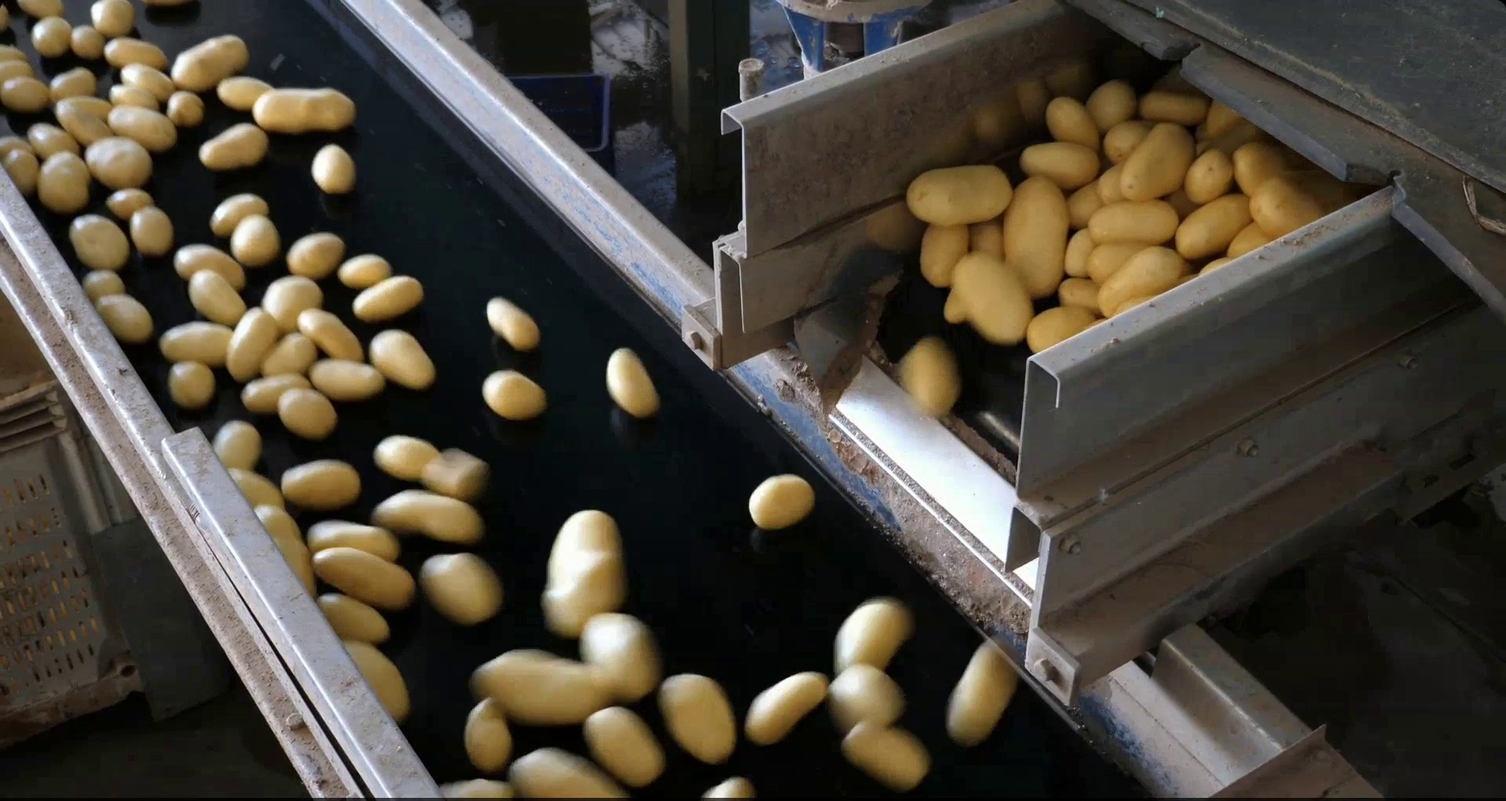potato: (537, 502, 630, 643), (463, 644, 615, 730), (940, 245, 1038, 349), (999, 171, 1073, 304), (940, 633, 1020, 752), (573, 607, 668, 706), (655, 667, 740, 769), (1090, 241, 1196, 321), (899, 159, 1017, 230), (504, 741, 640, 801), (579, 701, 669, 790), (739, 666, 834, 750), (828, 591, 919, 678), (413, 547, 509, 629), (836, 717, 937, 793), (306, 542, 418, 610), (366, 485, 489, 545), (337, 635, 414, 729), (1115, 118, 1199, 202), (893, 330, 966, 424), (824, 658, 908, 736), (253, 502, 318, 599), (1170, 188, 1253, 262), (1244, 172, 1330, 241), (251, 83, 362, 136), (167, 31, 255, 97), (1081, 194, 1183, 248), (364, 324, 441, 393), (275, 455, 366, 513), (311, 587, 395, 647), (602, 341, 664, 422), (744, 469, 820, 533), (223, 303, 280, 384), (461, 696, 517, 777), (348, 270, 428, 326), (296, 305, 369, 366), (81, 132, 156, 191), (417, 444, 493, 502), (304, 517, 404, 561), (100, 100, 180, 154), (153, 317, 238, 367), (1017, 137, 1102, 187), (194, 120, 274, 172), (65, 211, 132, 273), (917, 218, 973, 292), (1023, 303, 1101, 356), (306, 355, 390, 404), (256, 272, 328, 329), (478, 366, 551, 422), (370, 431, 446, 484), (35, 148, 94, 215), (186, 265, 249, 327), (482, 292, 544, 354), (275, 383, 341, 441), (1231, 137, 1293, 198), (92, 289, 157, 346), (169, 240, 250, 285), (282, 228, 349, 281), (53, 94, 115, 150), (1042, 92, 1102, 149), (1182, 146, 1237, 207), (207, 189, 273, 239), (208, 417, 265, 474), (258, 328, 321, 379), (1135, 85, 1213, 126), (224, 464, 288, 513), (227, 212, 281, 269), (1082, 75, 1140, 128), (238, 372, 307, 416), (213, 71, 279, 116), (126, 202, 178, 259), (117, 57, 177, 105), (164, 357, 218, 410), (308, 141, 358, 197), (1098, 116, 1153, 165), (333, 250, 395, 292), (100, 32, 170, 69), (22, 118, 81, 161), (1199, 96, 1250, 143), (1222, 219, 1275, 262), (1054, 272, 1105, 316), (1, 74, 54, 114), (29, 13, 75, 59), (1064, 175, 1104, 227), (1061, 226, 1098, 282), (1091, 160, 1128, 216), (435, 775, 521, 799), (45, 64, 99, 102), (89, 1, 141, 40), (102, 184, 157, 219), (3, 146, 42, 195), (1, 44, 45, 87), (104, 82, 162, 114), (164, 88, 209, 129), (79, 266, 128, 303), (966, 217, 1007, 261), (66, 22, 107, 63), (700, 774, 759, 801), (1190, 254, 1241, 283), (1, 125, 31, 163), (14, 1, 71, 20), (1, 1, 15, 38)
